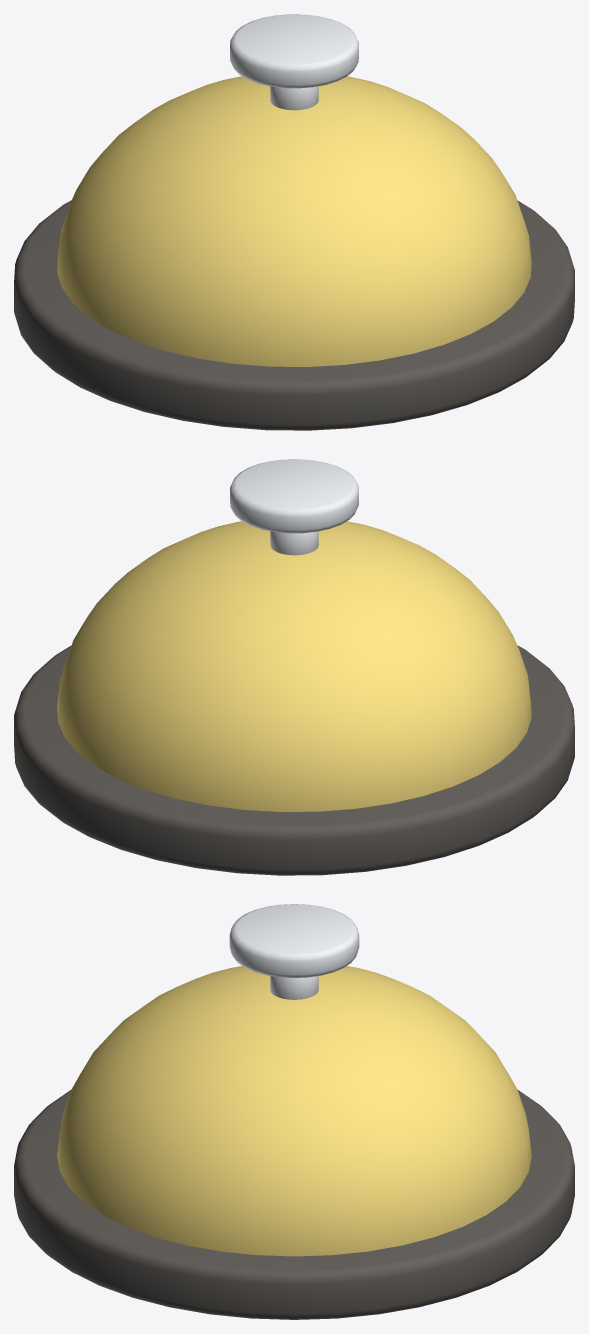
Rendered from brass_bell.glb.
The picture shows the model from 3 angles, top to bottom: view 1: azimuth 30°, elevation 25°; view 2: azimuth 150°, elevation 25°; view 3: azimuth 270°, elevation 25°; orthographic projection.
Parts seen in each view (by area): view 1: bell_dome, bell_base, bell_plunger, bell_stem; view 2: bell_dome, bell_base, bell_plunger, bell_stem; view 3: bell_dome, bell_base, bell_plunger, bell_stem.
Part boxes in pixels (box(x1,y1,x2,y2)): bell_dome: box(57, 76, 531, 366); bell_base: box(14, 200, 574, 430); bell_plunger: box(230, 14, 358, 88); bell_stem: box(270, 86, 318, 110); bell_dome: box(57, 521, 531, 811); bell_base: box(14, 645, 574, 875); bell_plunger: box(230, 459, 358, 533); bell_stem: box(270, 531, 318, 555); bell_dome: box(57, 966, 531, 1256); bell_base: box(14, 1089, 574, 1319); bell_plunger: box(229, 904, 359, 977); bell_stem: box(270, 976, 318, 999).
Size of the model in its own units: 1.04 by 0.565 by 1.04.
